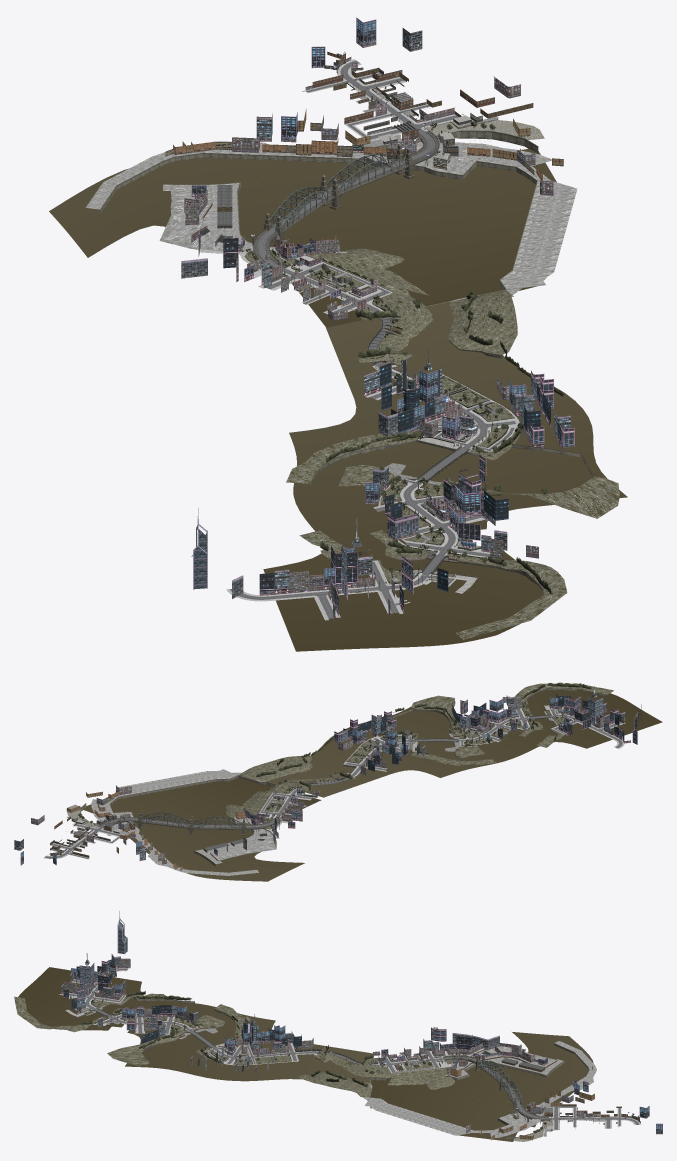
Rendered from final_region02_hopebridge.glb.
The picture shows the model from 3 angles, top to bottom: view 1: azimuth 30°, elevation 25°; view 2: azimuth 150°, elevation 25°; view 3: azimuth 270°, elevation 25°; orthographic projection. The views are drawn at different scales.
Parts seen in each view (by area): view 1: Mesh/region02_env/environment_background_vert_background/Mer (×63), Mesh/region02_env/environment_background_downres/MergeGroup- (×6), Mesh/region02_env/environment_background/MergeGroup-building; view 2: Mesh/region02_env/environment_background_vert_background/Mer (×42), Mesh/region02_env/environment_background_downres/MergeGroup- (×4), Mesh/region02_env/environment_background/MergeGroup-building; view 3: Mesh/region02_env/environment_background_vert_background/Mer (×36), Mesh/region02_env/environment_background_downres/MergeGroup- (×2), Mesh/region02_env/environment_background/MergeGroup-building.
Boxes of the visible parts, bbox=[...] form: Mesh/region02_env/environment_background_vert_background/Mer (×63): bbox=[49, 17, 619, 648]; Mesh/region02_env/environment_background_downres/MergeGroup- (×6): bbox=[286, 51, 544, 539]; Mesh/region02_env/environment_background/MergeGroup-building: bbox=[323, 560, 418, 600]; Mesh/region02_env/environment_background_vert_background/Mer (×42): bbox=[83, 695, 656, 880]; Mesh/region02_env/environment_background_downres/MergeGroup- (×4): bbox=[143, 696, 603, 835]; Mesh/region02_env/environment_background/MergeGroup-building: bbox=[488, 704, 563, 723]; Mesh/region02_env/environment_background_vert_background/Mer (×36): bbox=[18, 911, 593, 1141]; Mesh/region02_env/environment_background_downres/MergeGroup- (×2): bbox=[77, 963, 177, 1037]; Mesh/region02_env/environment_background/MergeGroup-building: bbox=[432, 1043, 482, 1067].
Bounding box in the file's own units: 1913 × 266 × 2786.
Materials: 39 (38 with a texture image).
